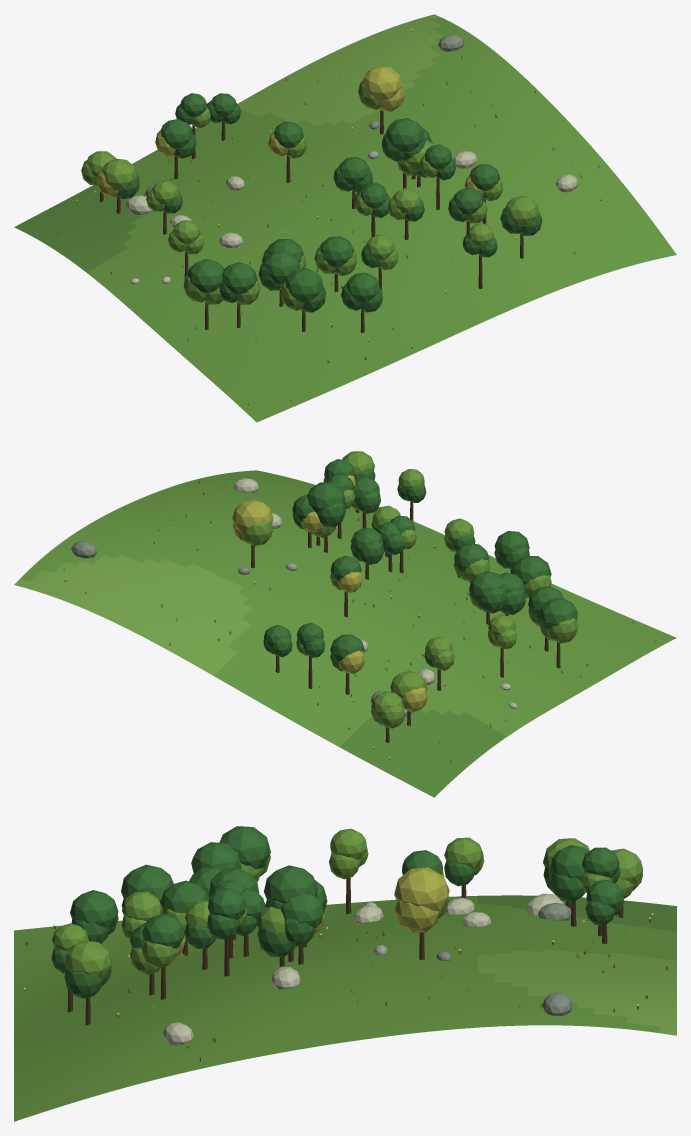
Rendered from Chunk_X-3_Y0_Z1.fbx.
3 views of the same model, one above another, from view 1: azimuth 30°, elevation 25°; view 2: azimuth 150°, elevation 25°; view 3: azimuth 270°, elevation 25° (orthographic). The views are drawn at different scales.
Visible parts, largest first — view 1: Terrain.004, Canopies.004, Rocks.004, Trunks.004; view 2: Terrain.004, Canopies.004, Trunks.004, Rocks.004, GroundCover.004; view 3: Terrain.004, Canopies.004, Rocks.004, Trunks.004, GroundCover.004.
Boxes of the visible parts, x1,y1,x2,y2 form: Terrain.004: (14,14,676,422); Canopies.004: (81,66,542,312); Rocks.004: (125,34,578,284); Trunks.004: (100,110,523,332); Terrain.004: (14,470,676,797); Canopies.004: (232,451,578,728); Trunks.004: (251,502,560,742); Rocks.004: (71,478,516,716); GroundCover.004: (63,480,656,762); Terrain.004: (14,895,676,1121); Canopies.004: (51,826,642,998); Rocks.004: (163,893,572,1045); Trunks.004: (67,877,623,1025); GroundCover.004: (23,895,667,1062).
Size of the model in its own units: 100 by 40.63 by 100.
